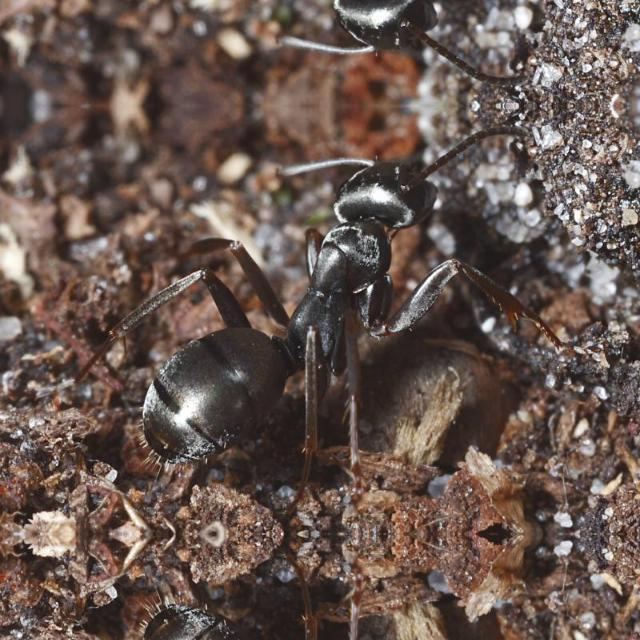Formica: (120, 140, 488, 478), (119, 0, 488, 72)
